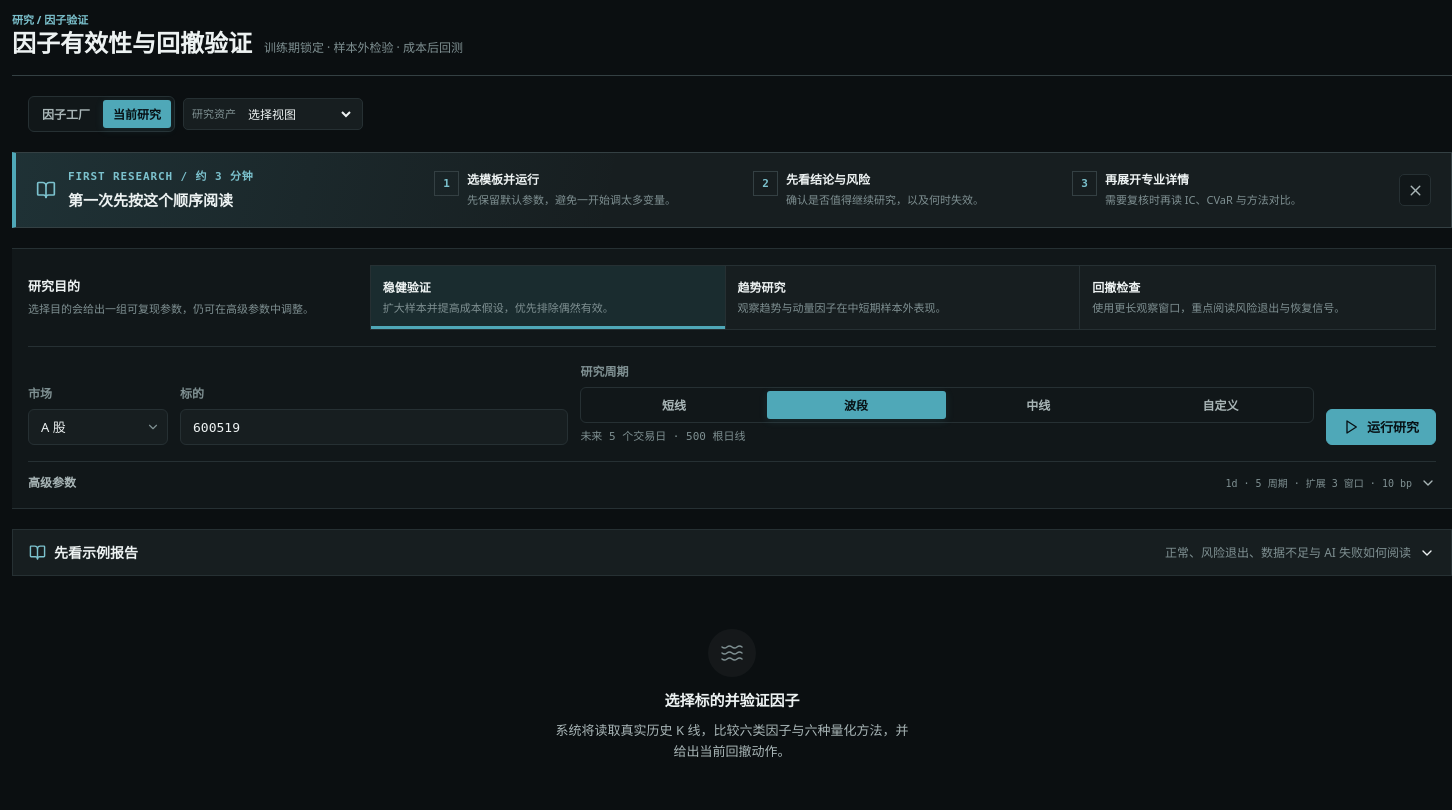
it: FactorResearchPage › shows a deep-review state while waiting for the AI provider
Step 1. Click the button "运行研究" → {"x": 1381, "y": 427}, box x1=1326 y1=409 x2=1436 y2=445
(page scrolled)
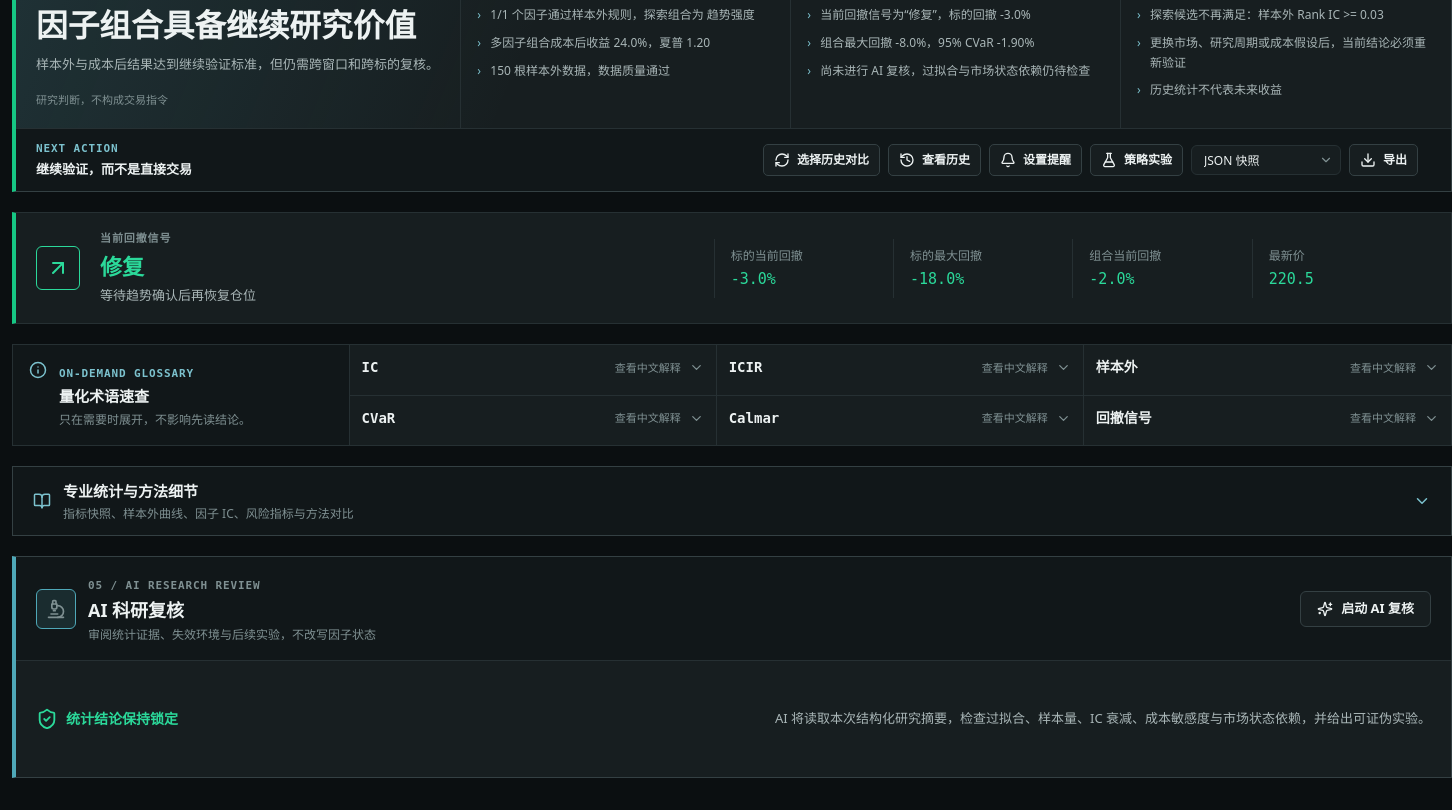
Expected: the heading "AI 科研复核" is shown, x1=88 y1=598 x2=184 y2=622
Step 2. Click the button "启动 AI 复核" → {"x": 1366, "y": 609}, box x1=1300 y1=591 x2=1431 y2=627
(page scrolled)
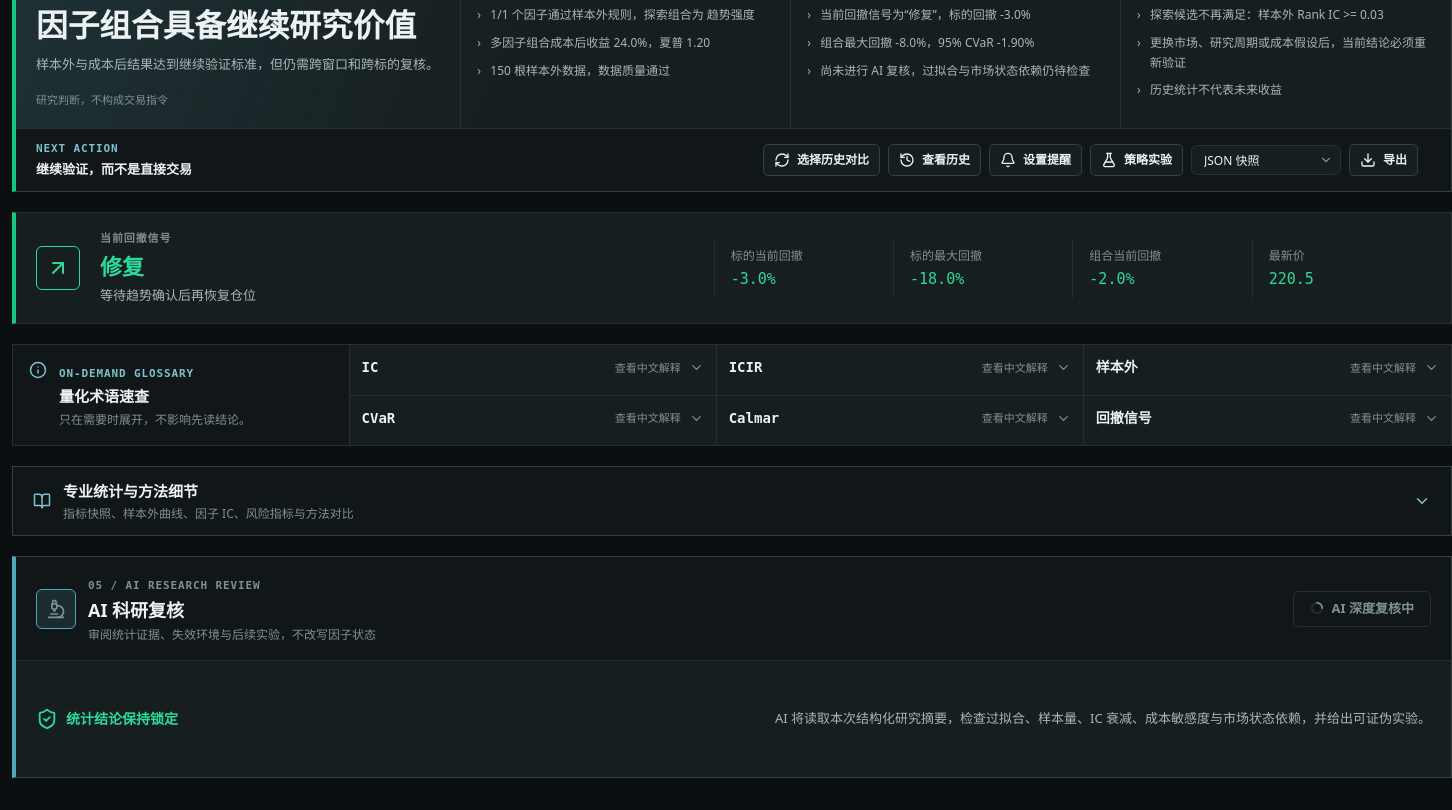
Expected: the button "AI 深度复核中" is shown, x1=1293 y1=591 x2=1431 y2=627
